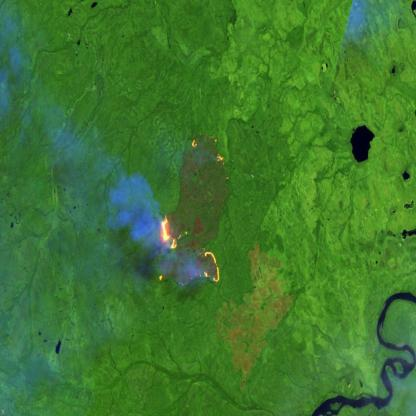fire: (156, 207, 222, 290)
